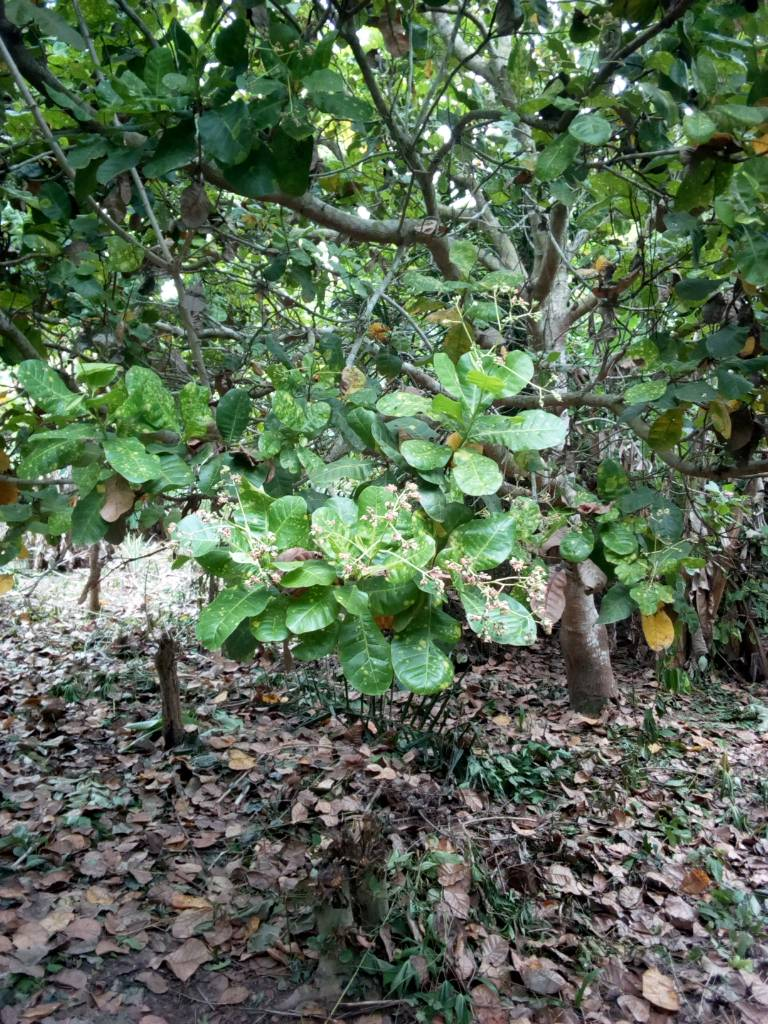Carence minérale: (194, 587, 271, 652), (99, 425, 171, 493), (335, 624, 396, 697), (393, 639, 457, 698), (276, 440, 340, 493)
